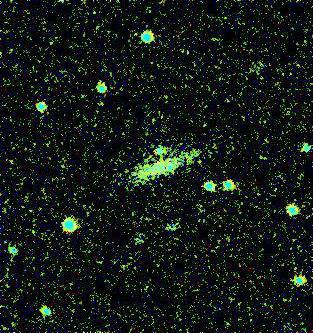star: (155, 152, 185, 182)
